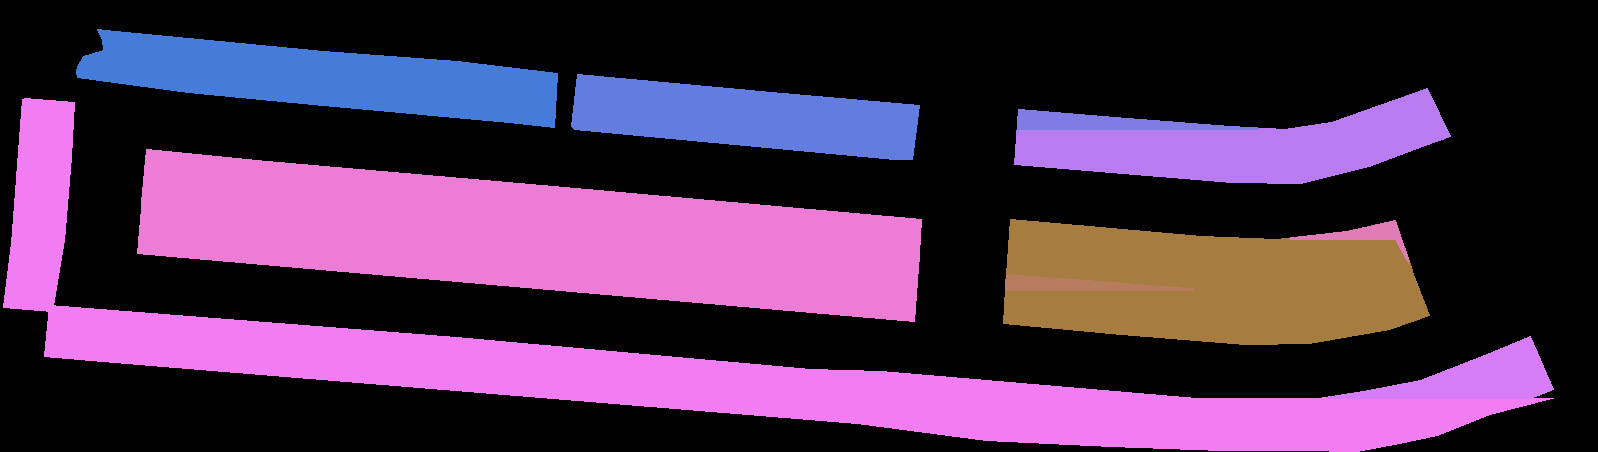parkingspot: (44, 305, 1553, 451), (137, 196, 918, 321), (141, 149, 921, 270), (76, 29, 557, 127), (1014, 88, 1450, 183), (1003, 266, 1429, 344), (1006, 219, 1411, 293), (571, 74, 919, 159), (3, 98, 74, 310)
